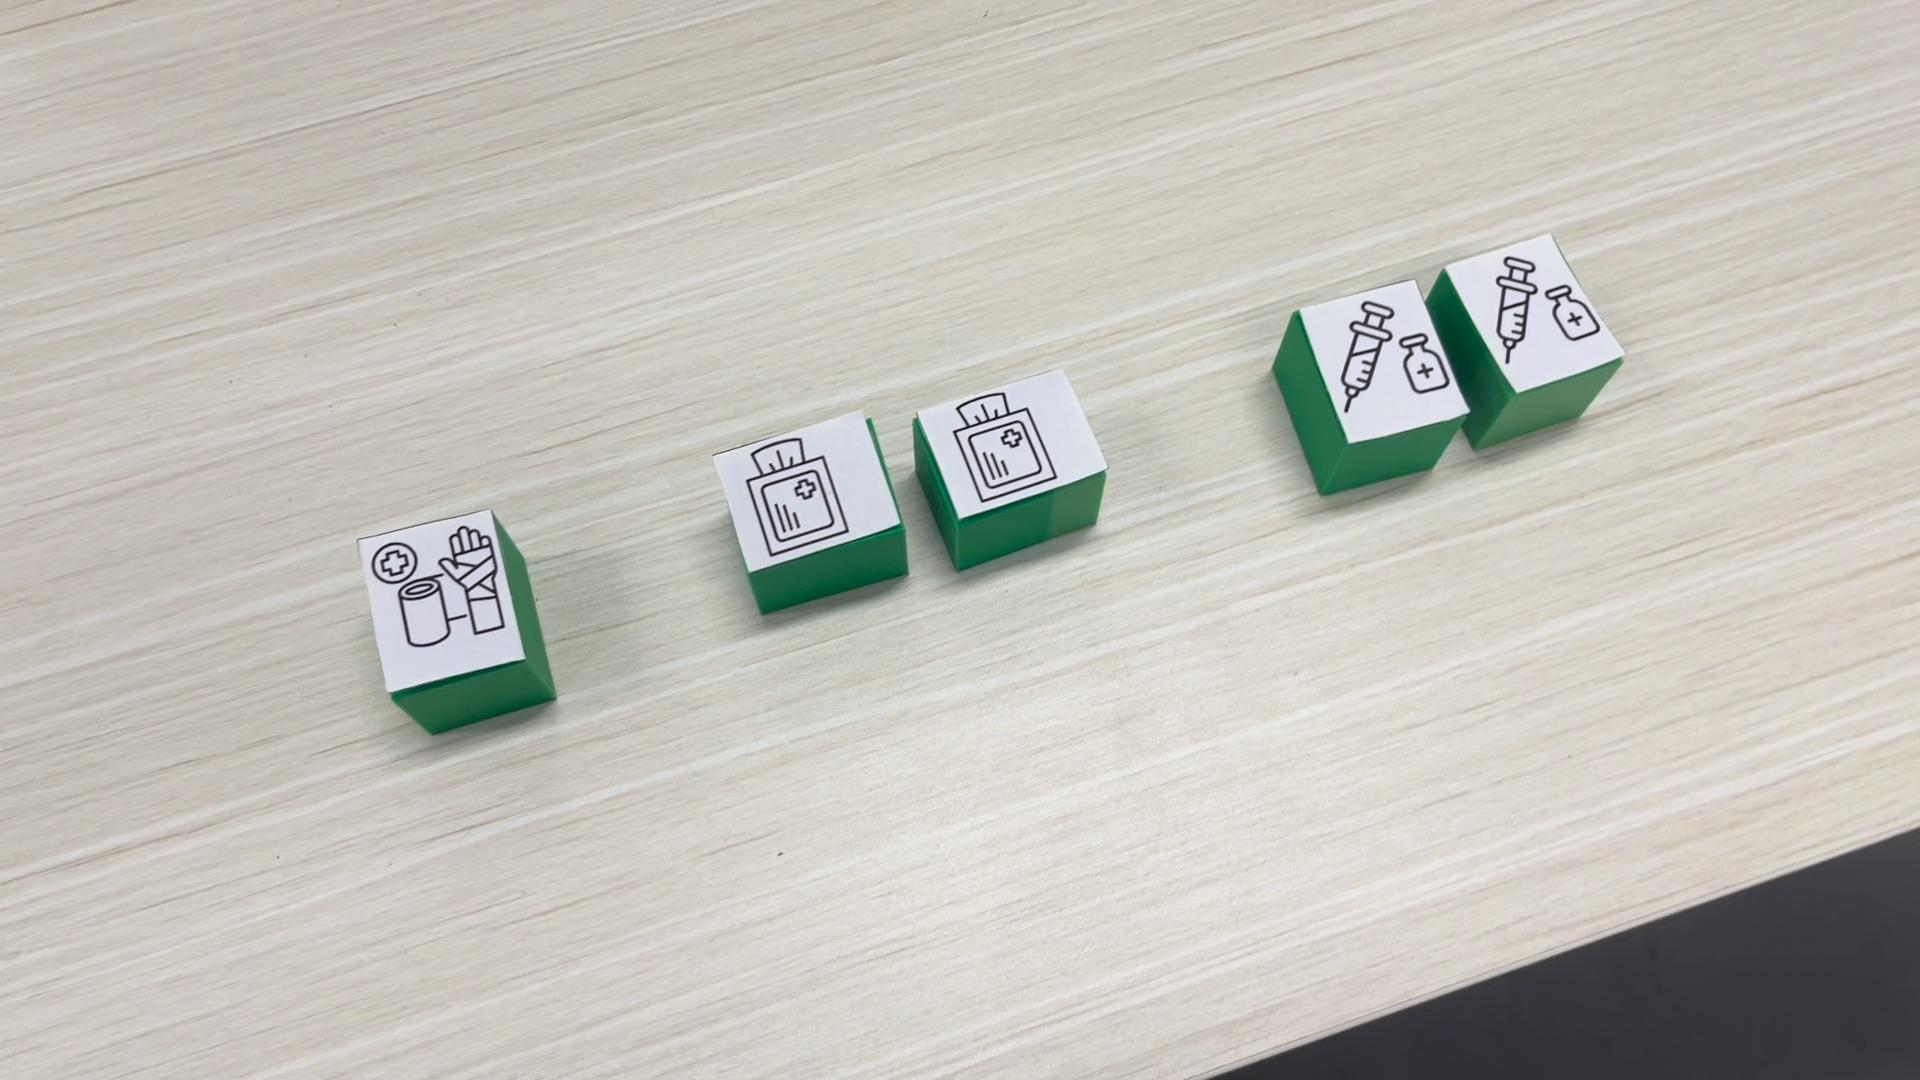Bandages: (353, 509, 556, 735)
Gauze: (877, 367, 1110, 571), (713, 409, 913, 616)
antiseptic cream: (1269, 282, 1470, 496), (1451, 231, 1625, 452)
